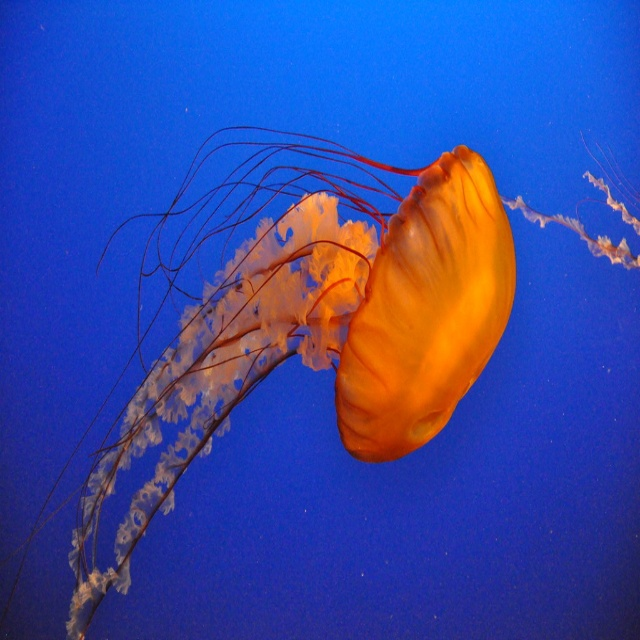Jellyfish: (0, 124, 518, 639)
